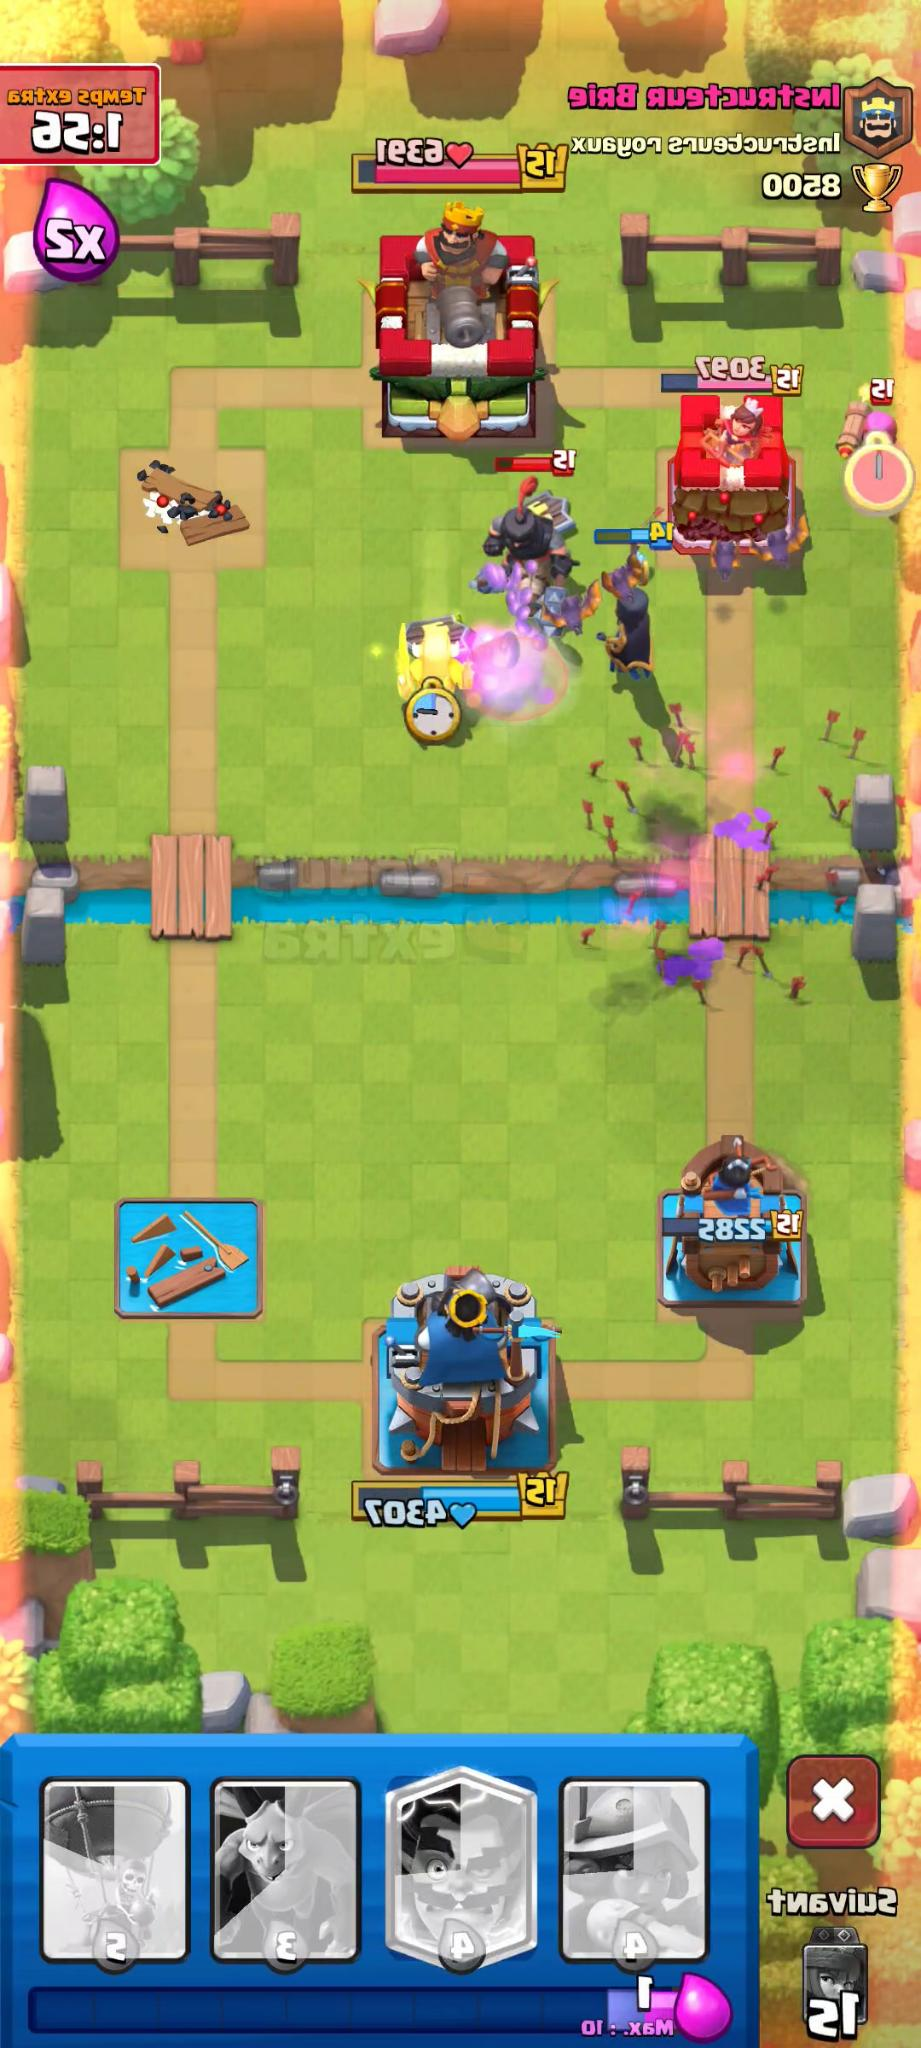mini_PEKKA: (380, 620, 489, 729)
